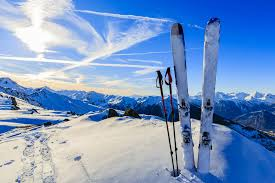skis: (170, 18, 224, 175)
